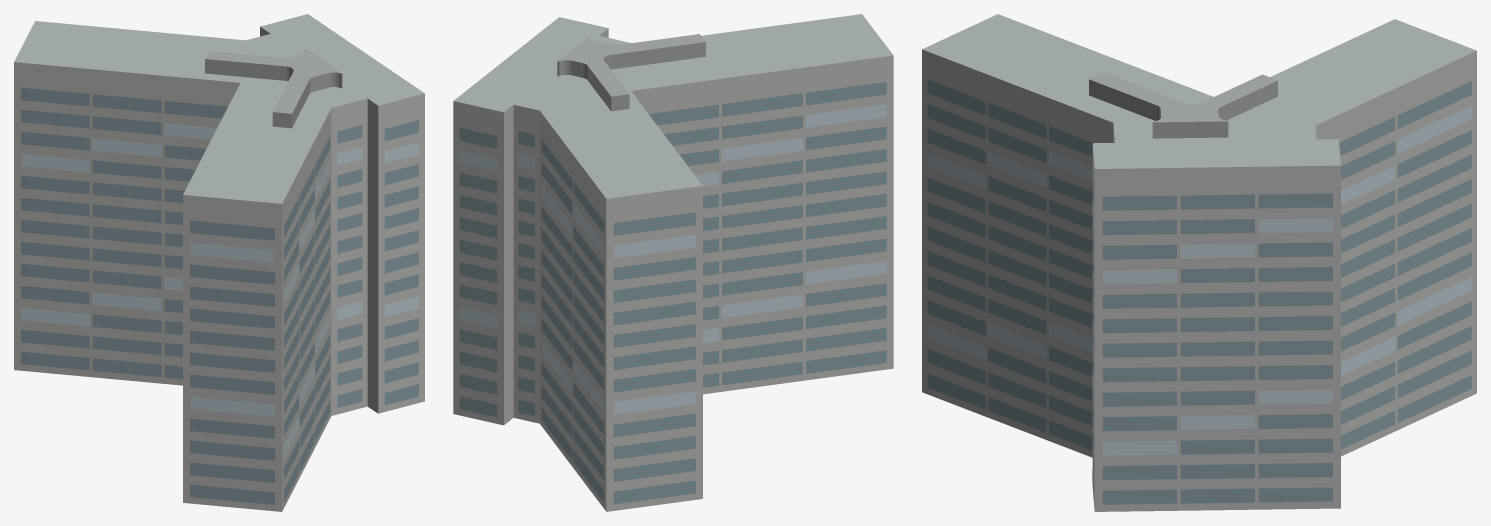
The model's file is fallback-raemian-oksu-riverzen-104.glb.
3 views of the same model, side by side, from view 1: azimuth 30°, elevation 25°; view 2: azimuth 150°, elevation 25°; view 3: azimuth 270°, elevation 25° (orthographic). The views are drawn at different scales.
Visible parts, largest first — view 1: fallback-raemian-oksu-riverzen-104; view 2: fallback-raemian-oksu-riverzen-104; view 3: fallback-raemian-oksu-riverzen-104.
Boxes of the visible parts, left/top/right/bottom form: fallback-raemian-oksu-riverzen-104: left=14, top=14, right=424, bottom=511; fallback-raemian-oksu-riverzen-104: left=453, top=14, right=893, bottom=511; fallback-raemian-oksu-riverzen-104: left=922, top=14, right=1476, bottom=511.
Bounding box in the file's own units: 37.99 × 41 × 57.43.
